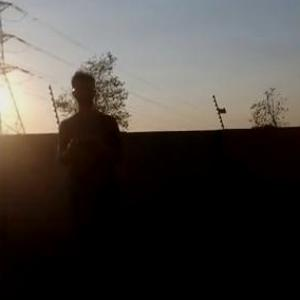follow: (56, 66, 133, 290)
